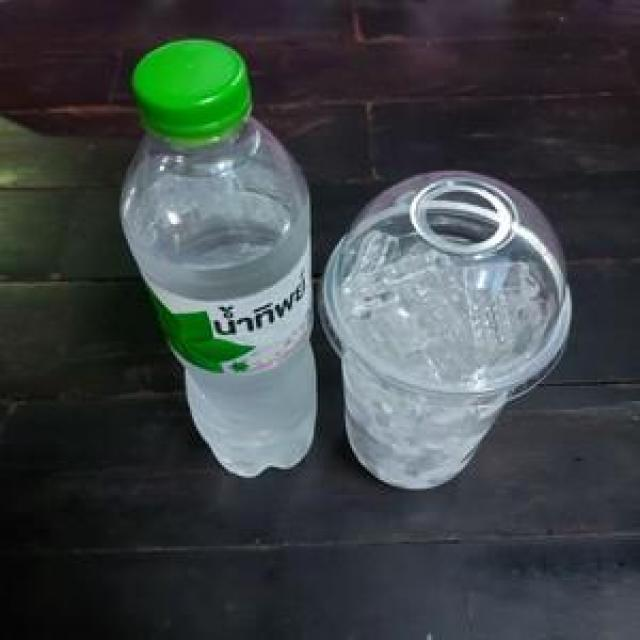bottle: (105, 27, 324, 510)
